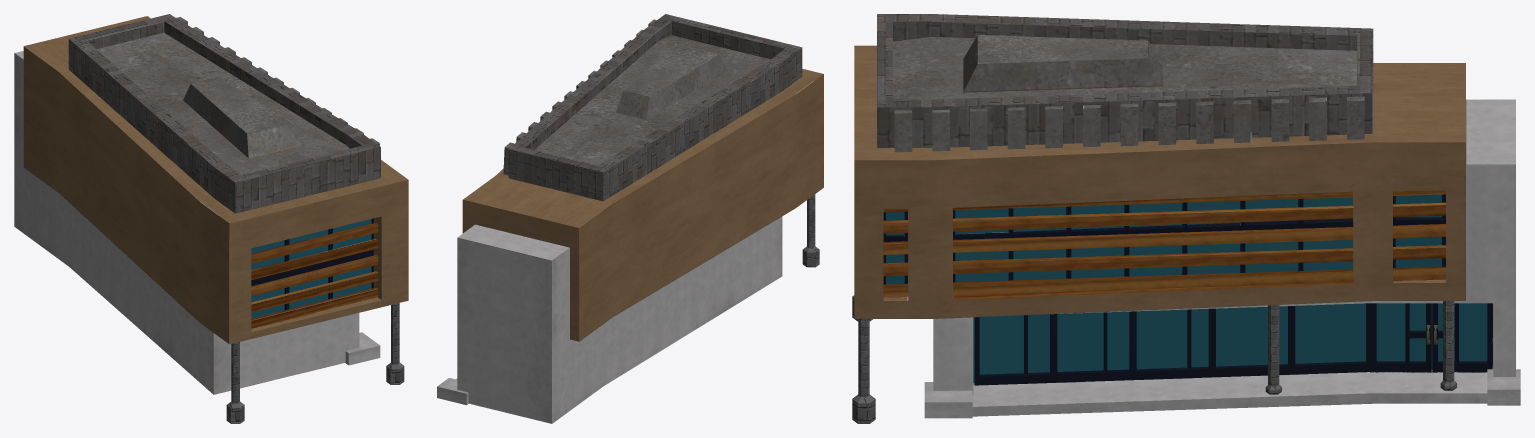
Rendered from Bat_Joliette_8.fbx.
3 renders of one model, left to right at view 1: azimuth 30°, elevation 25°; view 2: azimuth 150°, elevation 25°; view 3: azimuth 270°, elevation 25°, orthographic. The views are drawn at different scales.
Visible parts, largest first — view 1: Bat_Joliette_8; view 2: Bat_Joliette_8; view 3: Bat_Joliette_8.
Part boxes in pixels (left/top/right/bottom): Bat_Joliette_8: left=14, top=14, right=408, bottom=423; Bat_Joliette_8: left=437, top=14, right=823, bottom=423; Bat_Joliette_8: left=852, top=14, right=1520, bottom=423.
Size of the model in its own units: 1096 by 1415 by 2701.
